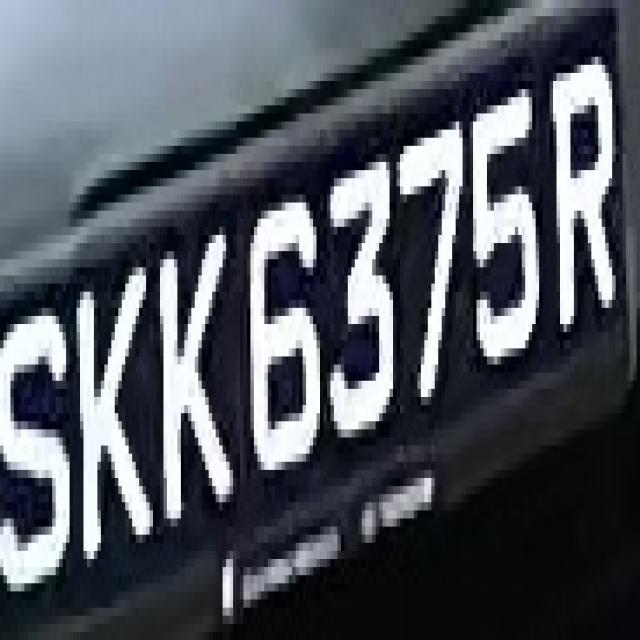3: (323, 146, 400, 478)
5: (459, 89, 550, 373)
6: (244, 178, 324, 511)
7: (386, 105, 463, 438)
K: (156, 202, 244, 543), (73, 219, 153, 583)
R: (539, 57, 633, 356)
S: (7, 259, 66, 608)
